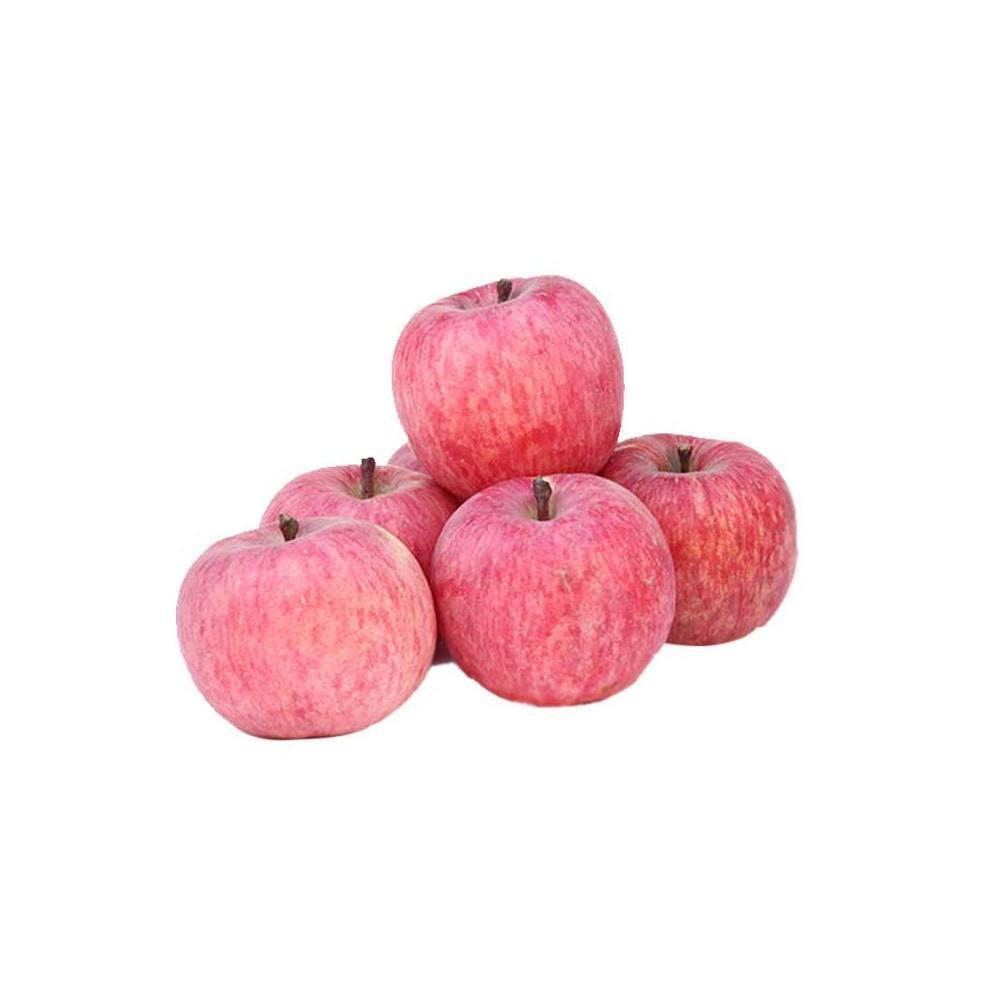apple: (171, 508, 436, 742), (437, 470, 677, 707), (386, 276, 623, 483), (594, 434, 799, 649)
